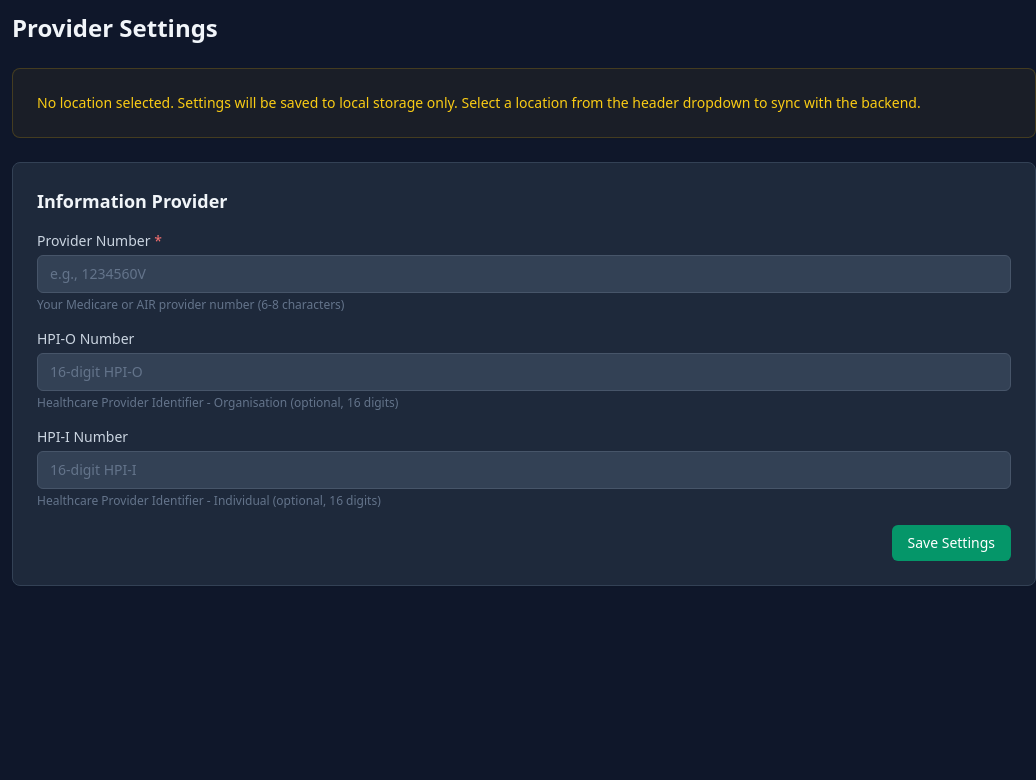
Scenario: SettingsPage › saves to localStorage when no location selected
Type "1234567A" into the field with test id "provider-number". click: (524, 274)
box: [37,255,1011,293]
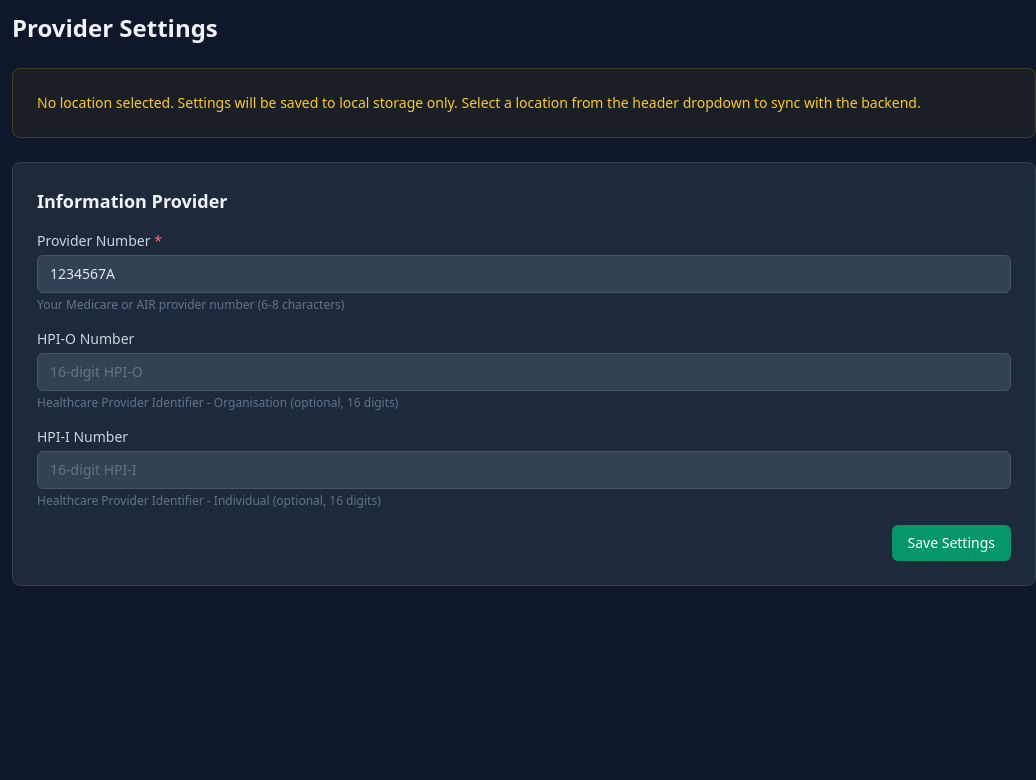
Click the button "Save Settings". click: (951, 543)
box: [892,525,1011,561]
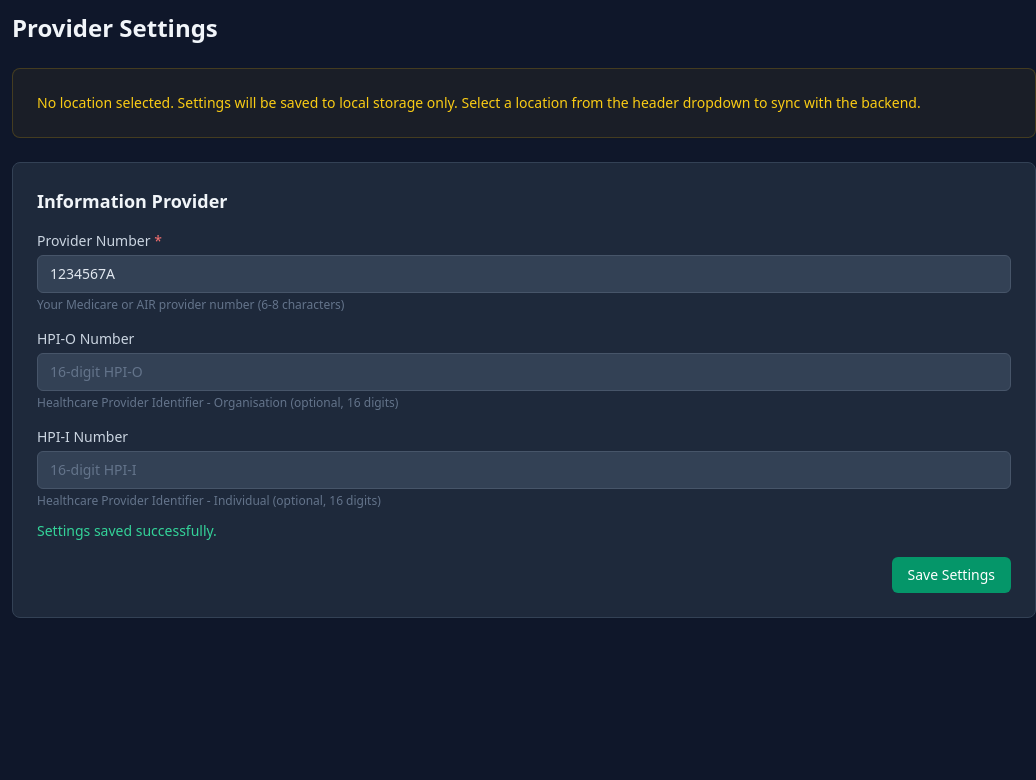
Expected: the text "Settings saved successfully." is shown, [37,521,217,540]
